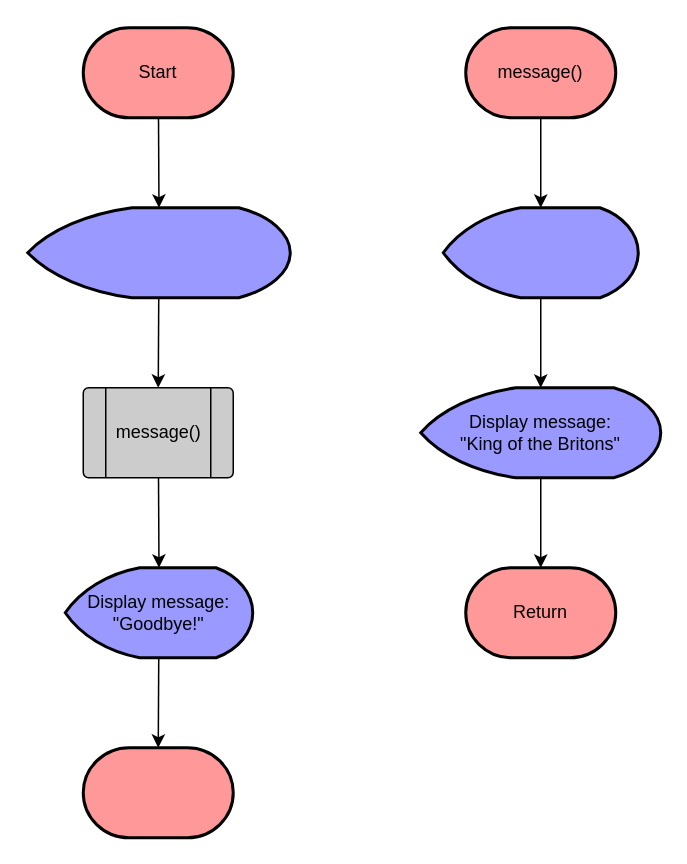
Image size: 687x864. Some labels were removed from this diagram. The shapes that lost their labels are listed below. From the top down, each one's centre as x and y in pixels, then its label:
point (158, 252): Display message: "I have a message for you"
point (540, 252): Display message: "I am Arthur"
point (157, 792): Stop
